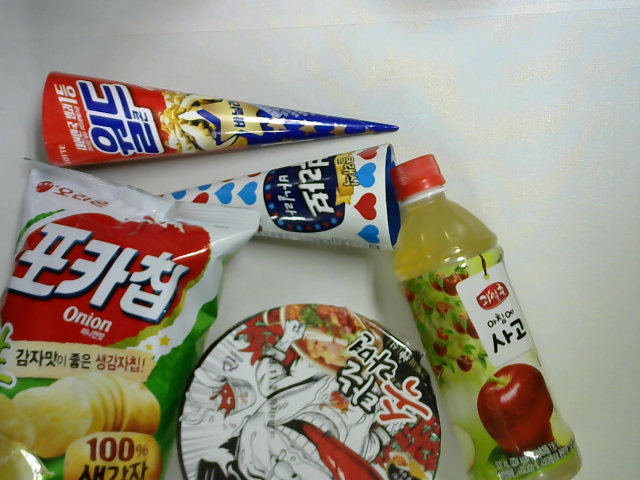Bravo_Cone_(Banila)_CVS: (150, 140, 401, 248)
HeJangsock: (172, 304, 444, 480)
Morning_Apple_500ml: (390, 156, 585, 480)
Pocachip_Onion: (1, 158, 260, 480)
World_Cone_Banila: (36, 71, 398, 171)
